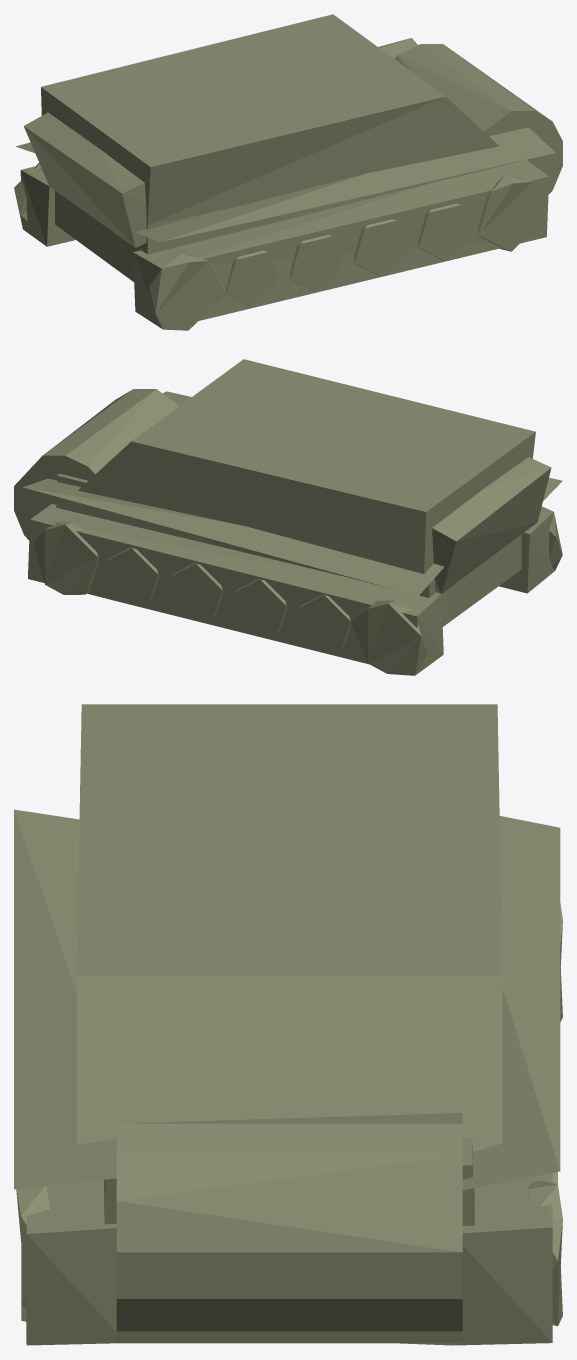
File: sherman.lod2.glb
The picture shows the model from 3 angles, top to bottom: view 1: azimuth 30°, elevation 25°; view 2: azimuth 150°, elevation 25°; view 3: azimuth 270°, elevation 25°; orthographic projection. The views are drawn at different scales.
Size of the model in its own units: 3.89 by 1.31 by 2.19.
